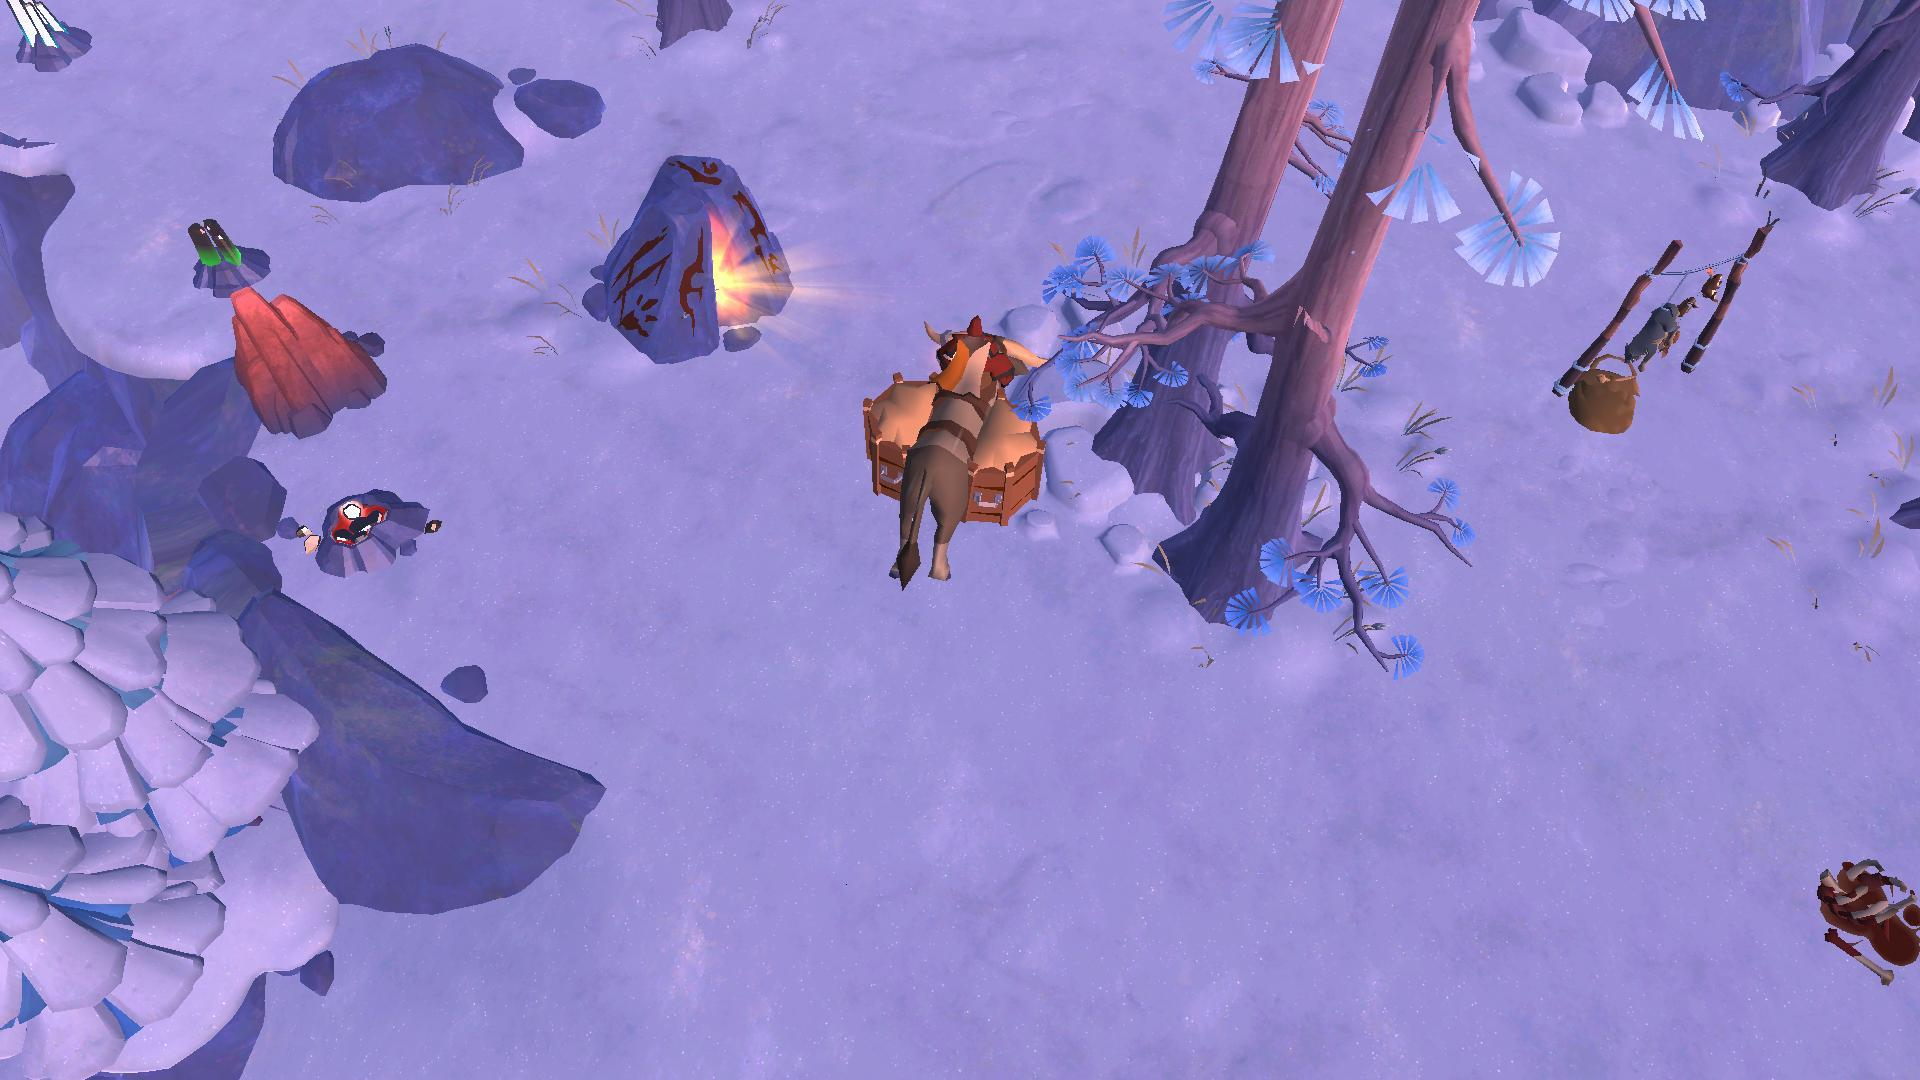ore_t3: (183, 212, 243, 272)
rock_t5: (220, 280, 384, 442)
